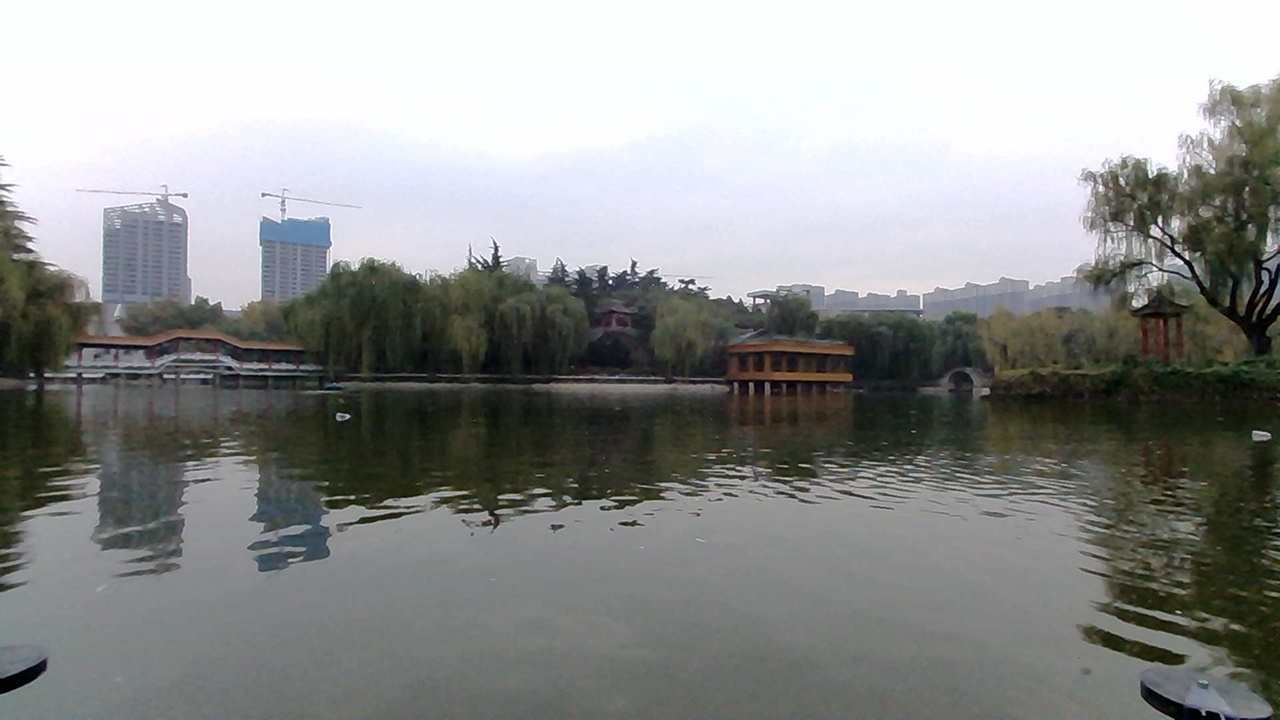bottle: (1234, 413, 1280, 447), (324, 402, 369, 426)
